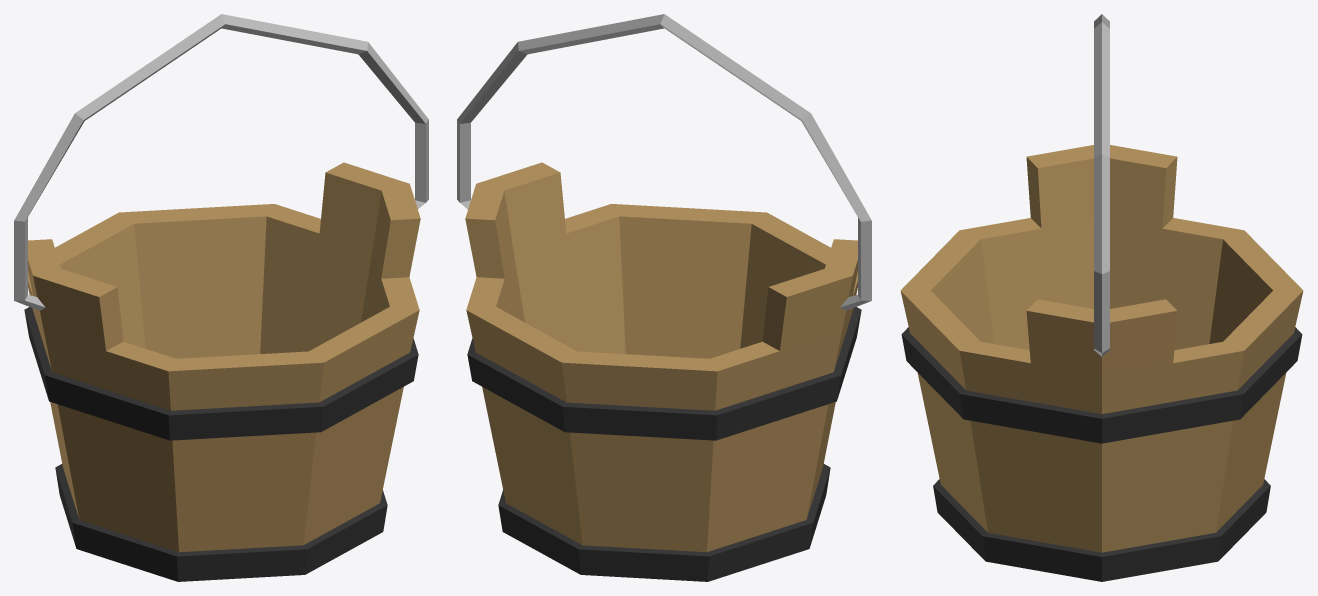
The model's file is Bucket1.fbx.
3 views of the same model, side by side, from view 1: azimuth 30°, elevation 25°; view 2: azimuth 150°, elevation 25°; view 3: azimuth 270°, elevation 25° (orthographic).
Parts seen in each view (by area): view 1: Cylinder, Cylinder.001; view 2: Cylinder, Cylinder.001; view 3: Cylinder, Cylinder.001.
Part boxes in pixels (x1=…): Cylinder: x1=24, y1=162, x2=420, y2=581; Cylinder.001: x1=14, y1=14, x2=428, y2=310; Cylinder: x1=465, y1=162, x2=861, y2=581; Cylinder.001: x1=457, y1=14, x2=871, y2=310; Cylinder: x1=900, y1=145, x2=1303, y2=581; Cylinder.001: x1=1094, y1=14, x2=1109, y2=356.
Size of the model in its own units: 0.69 by 0.7943 by 0.5913.
